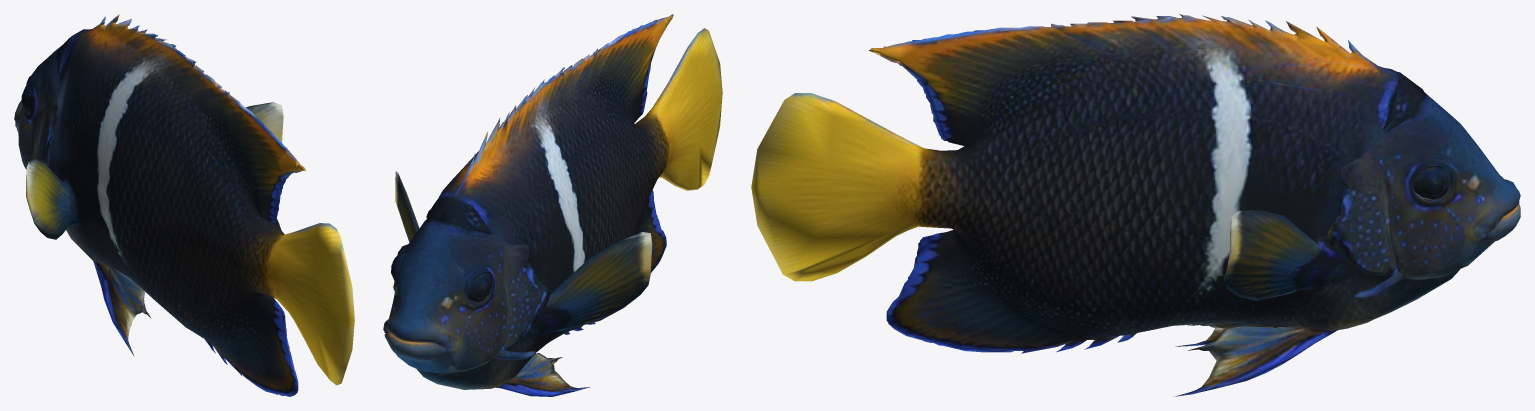
File: koningskeizer.glb
The picture shows the model from 3 angles, left to right: view 1: azimuth 30°, elevation 25°; view 2: azimuth 150°, elevation 25°; view 3: azimuth 270°, elevation 25°; orthographic projection. The views are drawn at different scales.
Visible parts, largest first — view 1: tripo_node_cf835dc4-f67f-474a-b632-68ff951010b7; view 2: tripo_node_cf835dc4-f67f-474a-b632-68ff951010b7; view 3: tripo_node_cf835dc4-f67f-474a-b632-68ff951010b7.
Boxes of the visible parts, x1,y1,x2,y2 form: tripo_node_cf835dc4-f67f-474a-b632-68ff951010b7: (14, 14, 354, 396); tripo_node_cf835dc4-f67f-474a-b632-68ff951010b7: (383, 14, 722, 396); tripo_node_cf835dc4-f67f-474a-b632-68ff951010b7: (751, 14, 1520, 396).
Bounding box in the file's own units: 0.1802 × 0.2 × 0.3886.
1 material, 1 textured.
